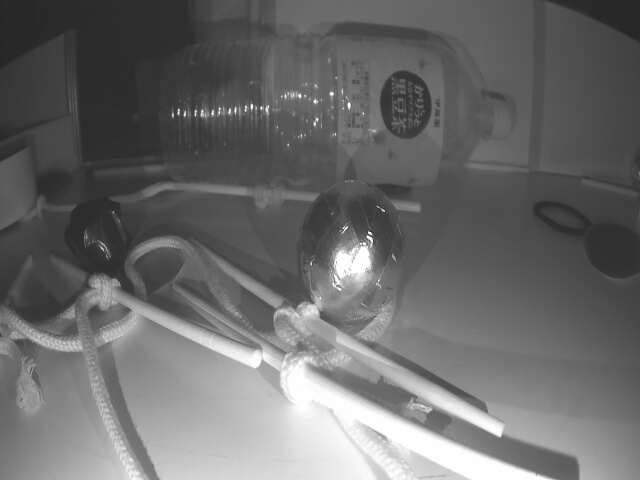Dead: (66, 200, 137, 278)
Live: (300, 177, 405, 325)
Point: (0, 115, 70, 192)
